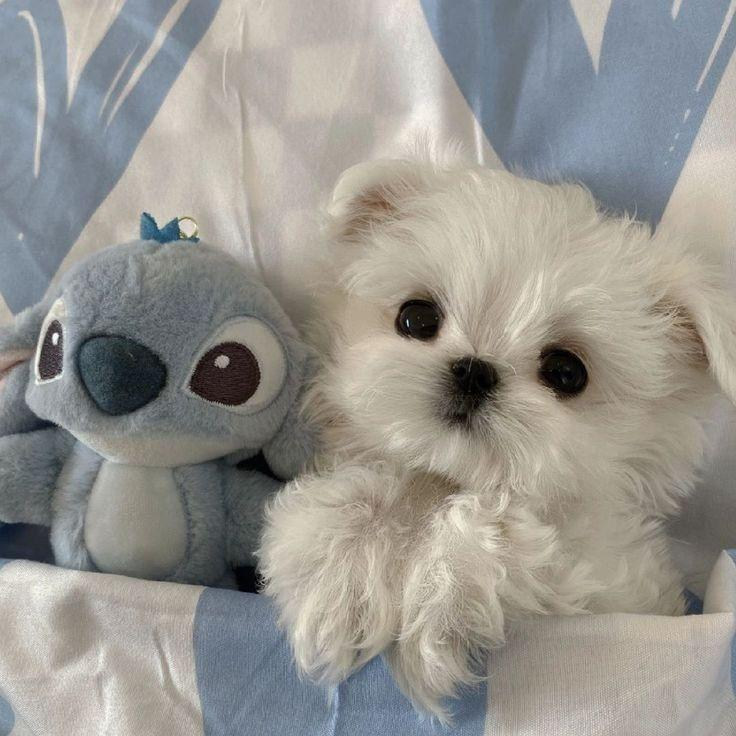non-dog: (0, 210, 326, 592)
puppy-dog: (254, 153, 736, 720)
